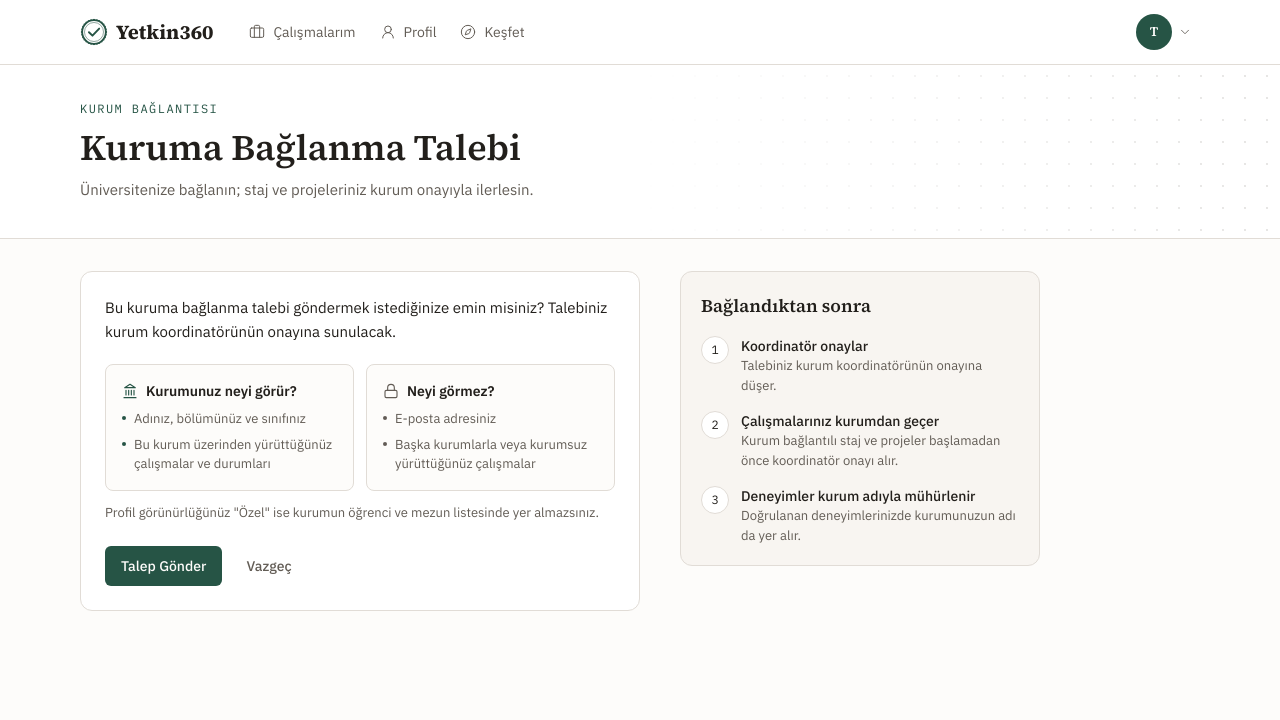
Test: KurumBaglanPage (/kurum/[id]/baglan) › happy path: talep gönderilince başarı mesajı ve profile dönüş linki gösterilir
Click the button "Talep Gönder": (164, 566) top-left (105, 546), bottom-right (222, 586)
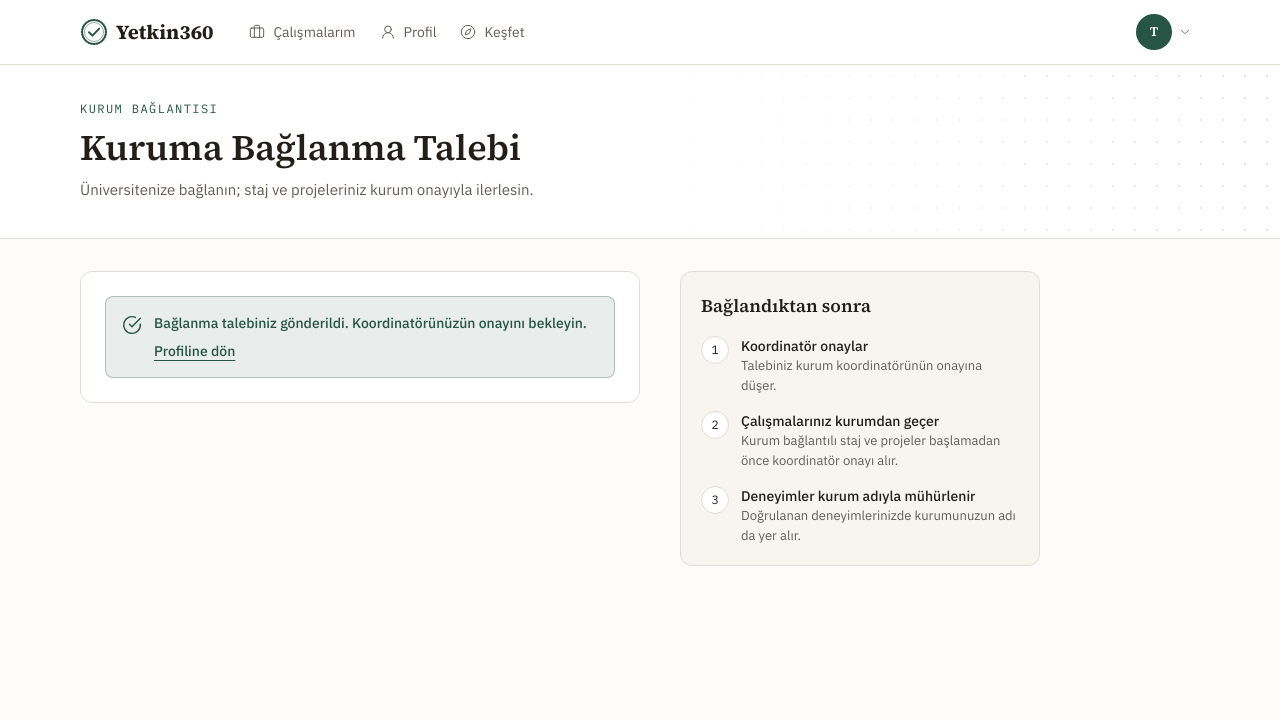
expect the text "Bağlanma talebiniz gönderildi" is shown: met, box top-left (154, 314), bottom-right (587, 332)
expect the link "Profiline dön" is shown: met, box top-left (154, 342), bottom-right (235, 360)
